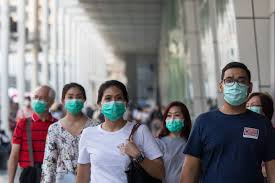mask: (222, 64, 250, 105), (99, 80, 126, 119), (63, 84, 85, 114), (31, 87, 52, 112), (166, 105, 184, 132), (247, 94, 264, 112)
